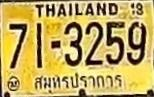1: (36, 22, 42, 68)
2: (85, 21, 102, 65)
3: (64, 21, 82, 65)
5: (105, 21, 124, 64)
7: (8, 23, 26, 68)
9: (126, 21, 146, 64)
SPK: (33, 72, 125, 94)
